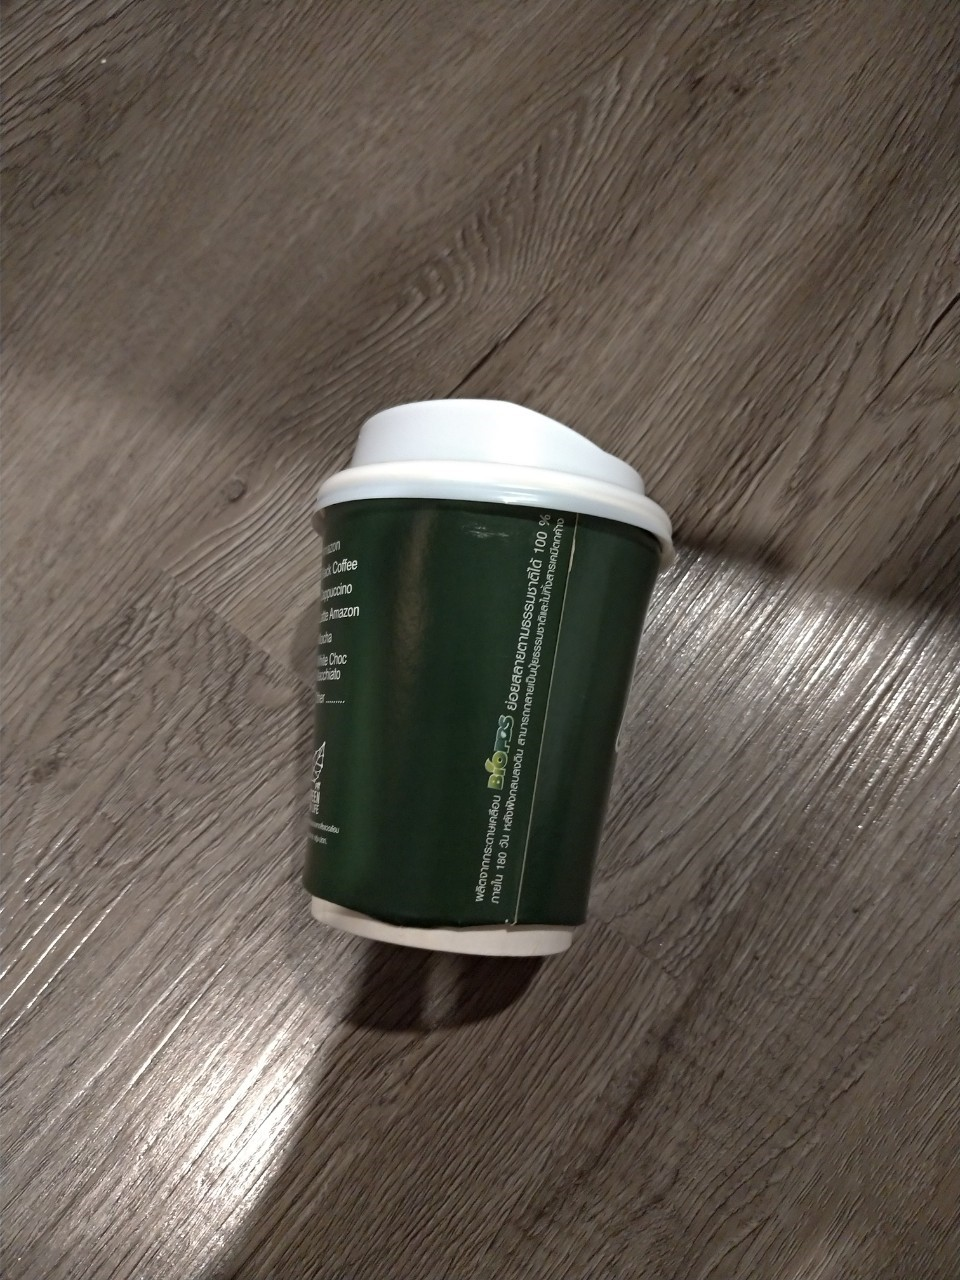PaperCup: (285, 398, 671, 957)
